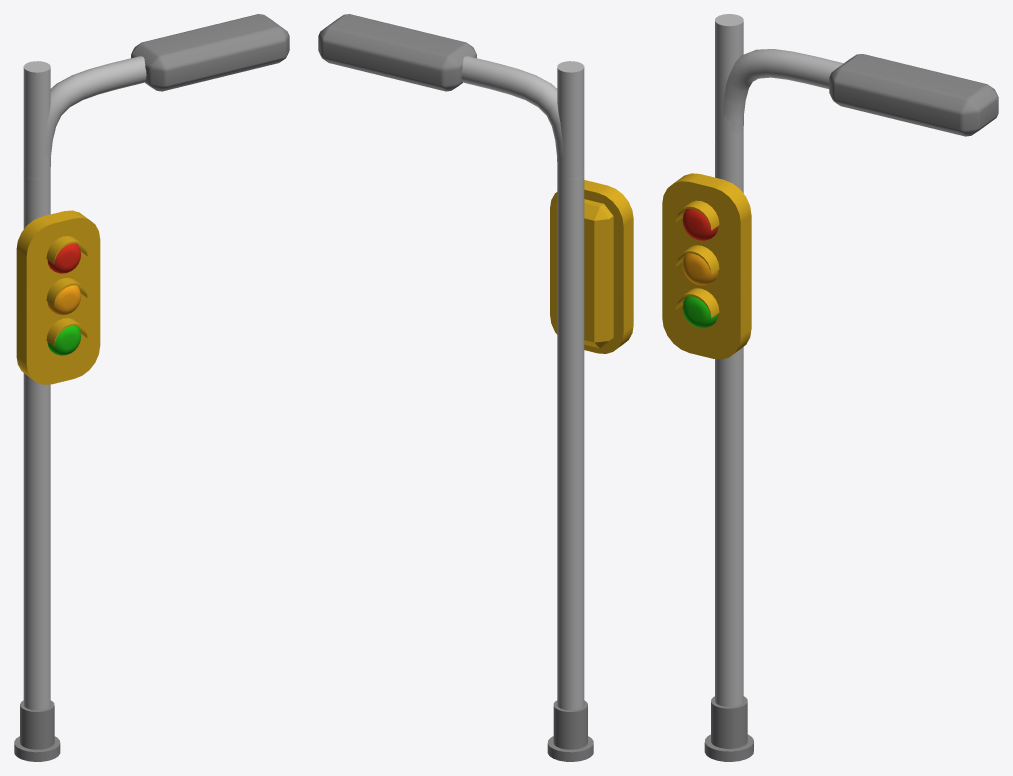
File: Traffic_Light.fbx
3 renders of one model, left to right at view 1: azimuth 30°, elevation 25°; view 2: azimuth 150°, elevation 25°; view 3: azimuth 330°, elevation 25°, orthographic. The views are drawn at different scales.
Visible parts, largest first — view 1: pCylinder18; view 2: pCylinder18; view 3: pCylinder18.
Boxes of the visible parts, left/top/right/bottom form: pCylinder18: left=14, top=14, right=289, bottom=761; pCylinder18: left=318, top=14, right=633, bottom=761; pCylinder18: left=662, top=14, right=998, bottom=761.
Size of the model in its own units: 11.01 by 25.72 by 3.36.
